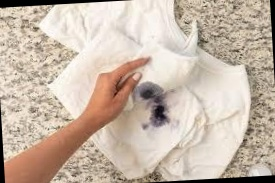ink: (140, 83, 164, 101), (150, 104, 169, 125)
